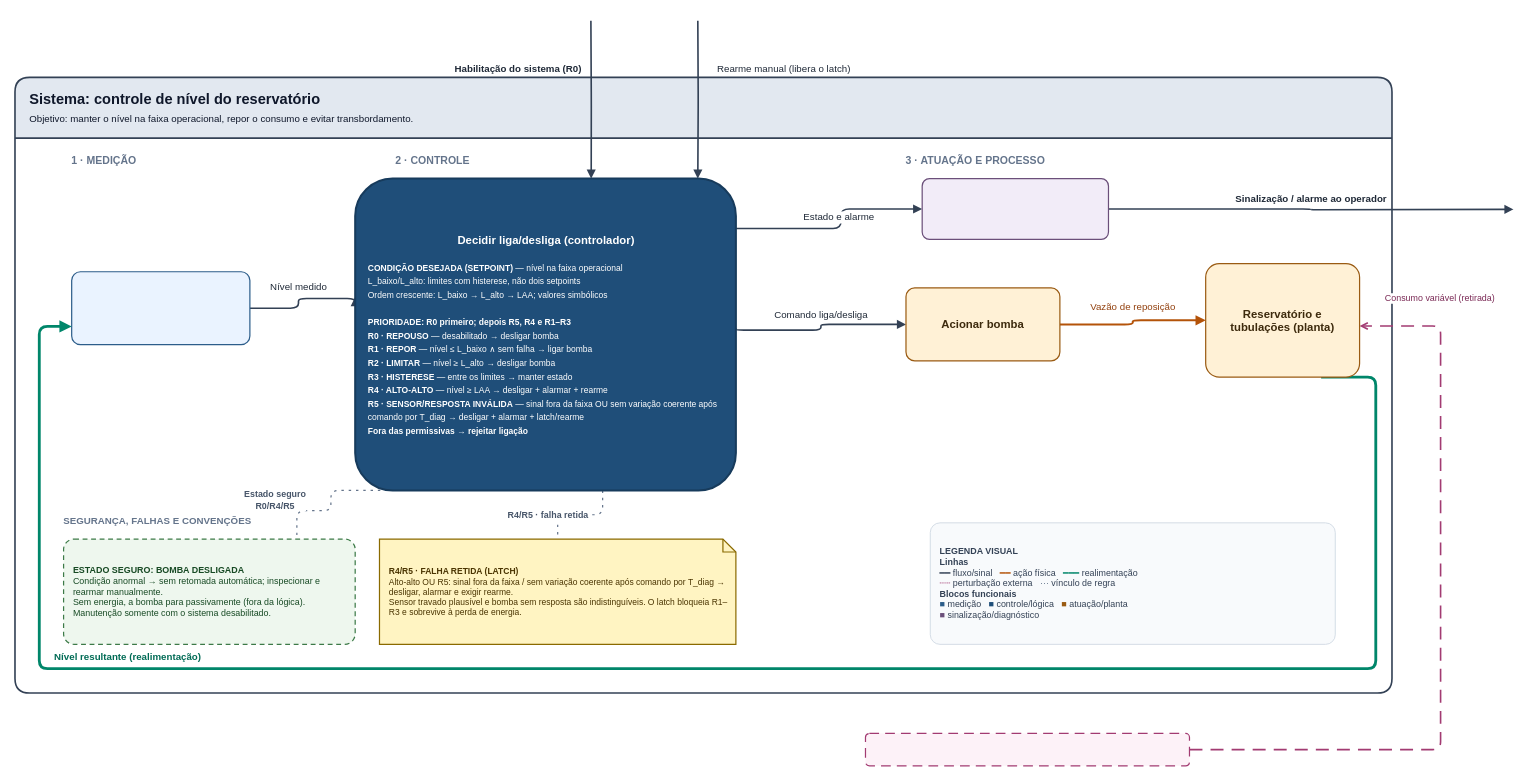
The diagram is 1534 pixels wide and 780 high, and some of its shapes have lost their labels. The centre of each missing label's shape, as x and y in pixels:
"Medir nível (sensor)" belongs at [160,308].
"Perturbação: consumo variável (ambiente)" belongs at [1027,749].
"Sinalizar e alarmar" belongs at [1015,209].
